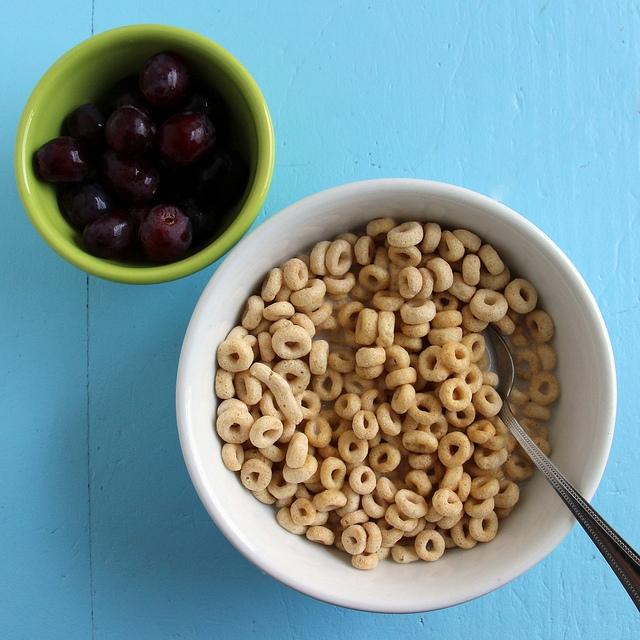grape: (157, 112, 217, 174), (94, 150, 162, 202), (140, 204, 192, 264), (37, 135, 99, 183), (104, 104, 158, 159), (138, 52, 191, 108), (82, 210, 139, 260), (63, 179, 117, 228), (178, 86, 229, 136), (175, 198, 221, 253), (64, 103, 110, 150), (108, 76, 156, 114), (116, 198, 160, 226), (158, 173, 196, 203)
